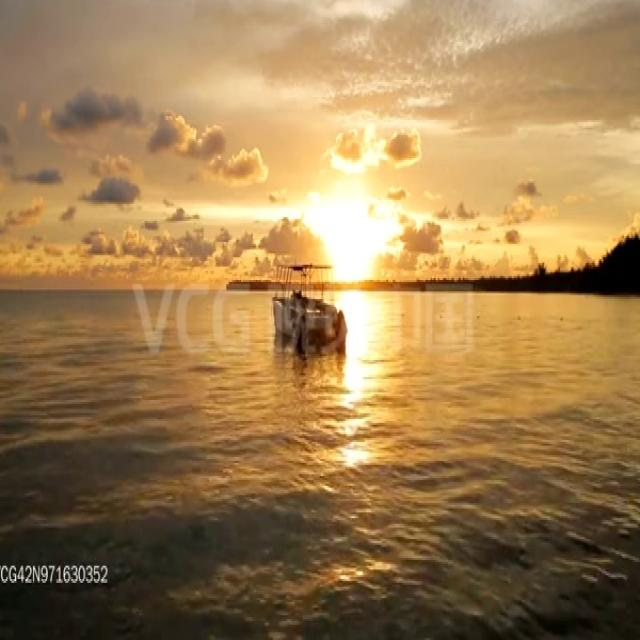houseboat: (273, 258, 346, 356)
